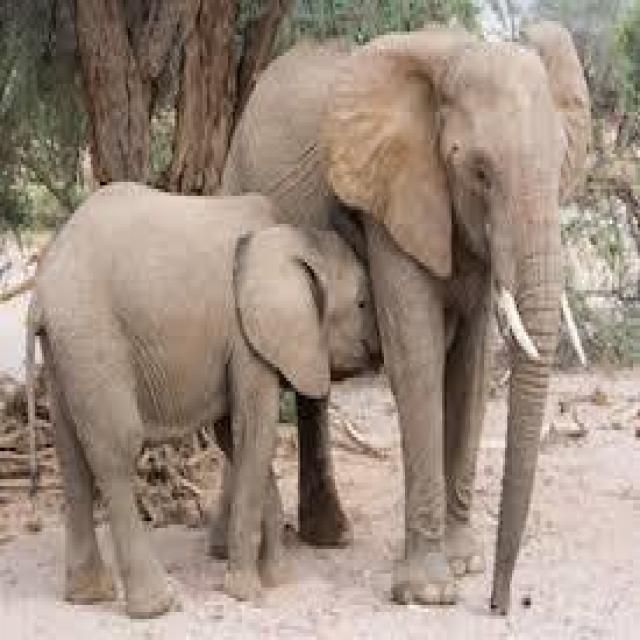Elephant: (226, 18, 584, 584), (16, 182, 370, 612)
